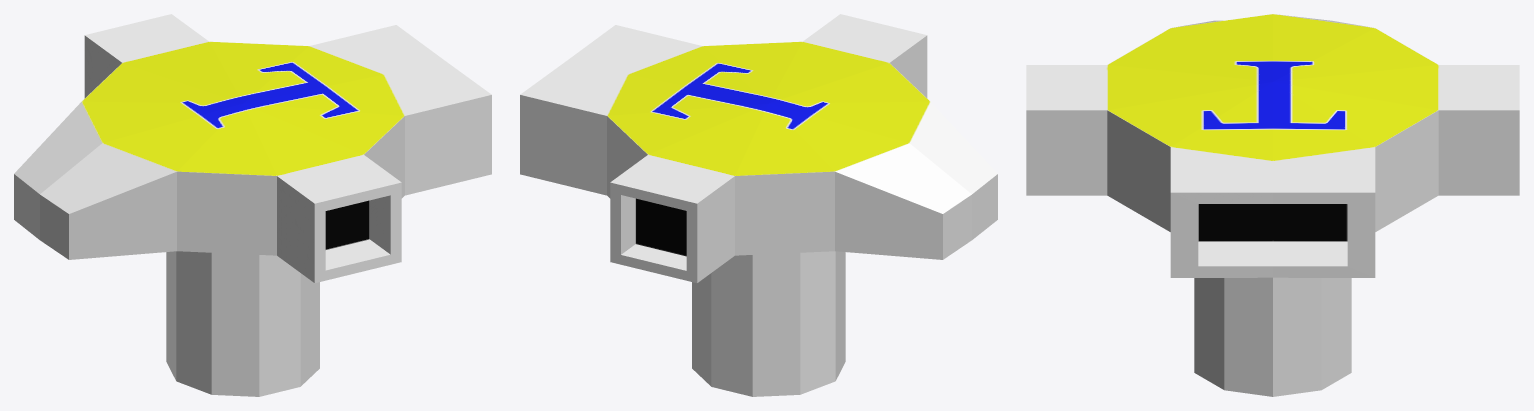
Rendered from thelpertop.obj.
The picture shows the model from 3 angles, left to right: view 1: azimuth 30°, elevation 25°; view 2: azimuth 150°, elevation 25°; view 3: azimuth 270°, elevation 25°; orthographic projection. The views are drawn at different scales.
Visible parts, largest first — view 1: polySurface2 pSphere1; view 2: polySurface2 pSphere1; view 3: polySurface2 pSphere1.
Boxes of the visible parts, box(x1,y1,x2,y2) form: polySurface2 pSphere1: box(14, 14, 491, 396); polySurface2 pSphere1: box(520, 14, 997, 396); polySurface2 pSphere1: box(1026, 14, 1519, 396).
Bounding box in the file's own units: 1.14 × 0.7015 × 1.12.
1 material, 1 textured.
